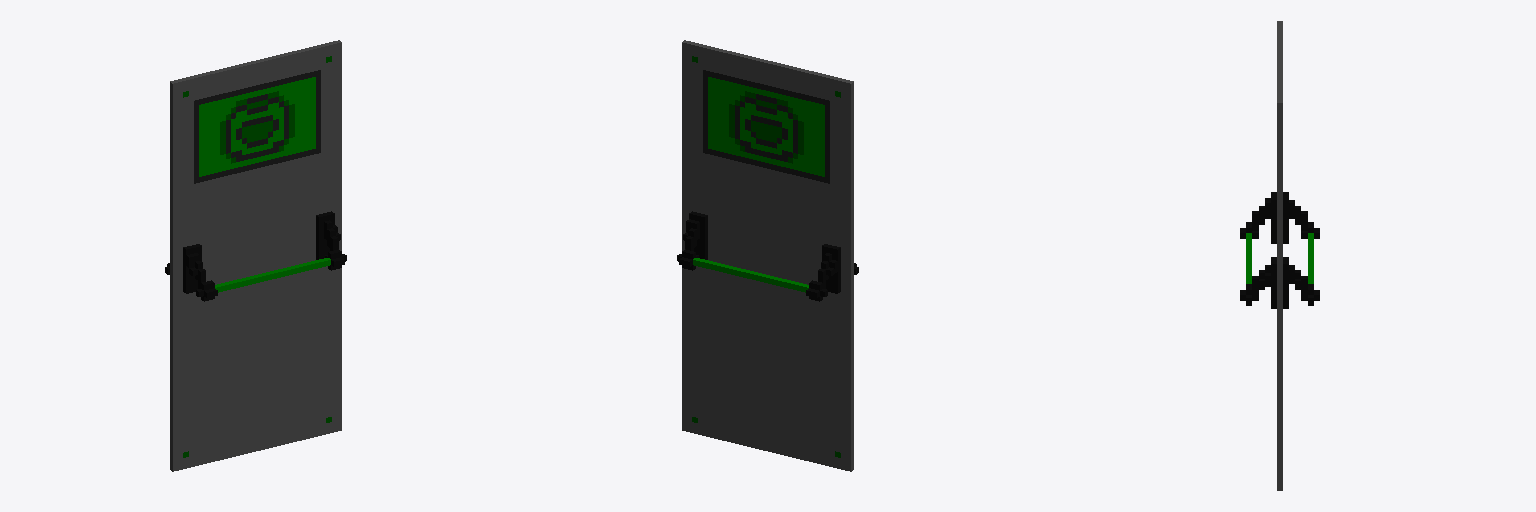
3 views of the same model, side by side, from view 1: azimuth 30°, elevation 25°; view 2: azimuth 150°, elevation 25°; view 3: azimuth 270°, elevation 25° (orthographic).
Parts seen in each view (by area): view 1: object 1; view 2: object 1; view 3: object 1.
Part boxes in pixels (x1,y1,x2,y2): object 1: (165,40,346,471); object 1: (677,40,858,471); object 1: (1240,21,1319,490).
Size of the model in its own units: 3.2 by 7 by 1.3.
Materials: 1 (1 with a texture image).